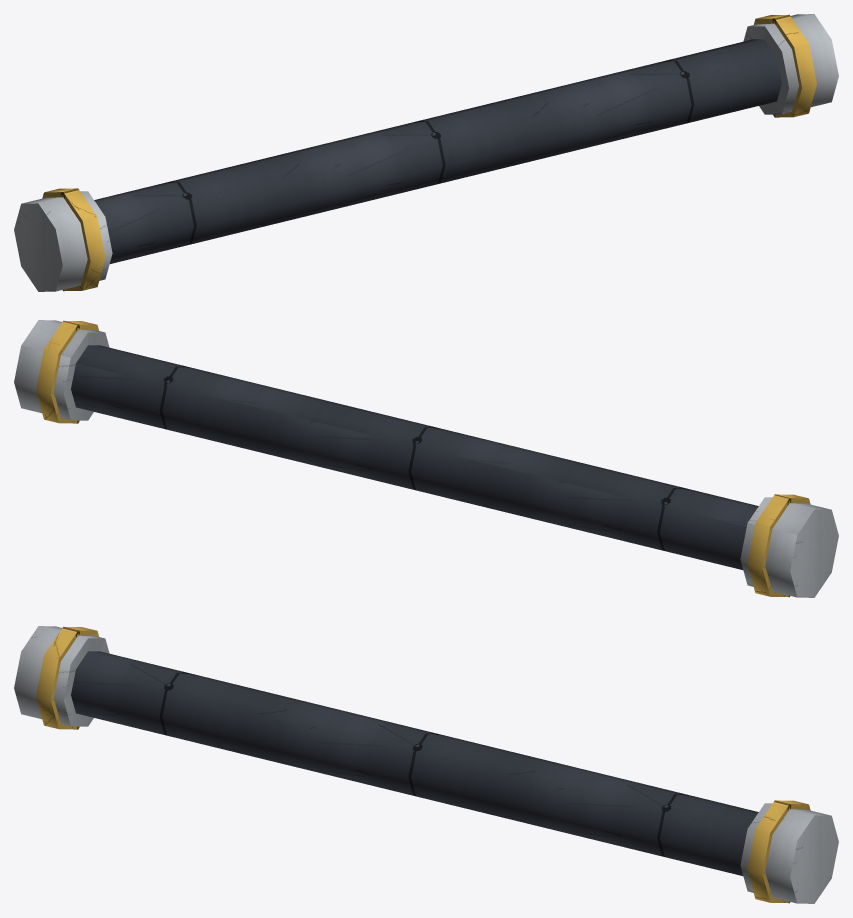
The model's file is hose_straight.glb.
3 renders of one model, top to bottom at view 1: azimuth 30°, elevation 25°; view 2: azimuth 150°, elevation 25°; view 3: azimuth 330°, elevation 25°, orthographic.
Parts seen in each view (by area): view 1: DL016_HoseStraight_rubber_dark, DL016_HoseStraight_titanium, DL016_HoseStraight_amber_accent; view 2: DL016_HoseStraight_rubber_dark, DL016_HoseStraight_titanium, DL016_HoseStraight_amber_accent; view 3: DL016_HoseStraight_rubber_dark, DL016_HoseStraight_titanium, DL016_HoseStraight_amber_accent.
Boxes of the visible parts, x1,y1,x2,y2 form: DL016_HoseStraight_rubber_dark: (94, 39, 781, 263); DL016_HoseStraight_titanium: (14, 14, 838, 291); DL016_HoseStraight_amber_accent: (42, 14, 816, 291); DL016_HoseStraight_rubber_dark: (71, 345, 758, 569); DL016_HoseStraight_titanium: (14, 320, 838, 597); DL016_HoseStraight_amber_accent: (36, 320, 810, 597); DL016_HoseStraight_rubber_dark: (71, 651, 758, 875); DL016_HoseStraight_titanium: (14, 626, 838, 903); DL016_HoseStraight_amber_accent: (36, 626, 810, 903).
Size of the model in its own units: 3.12 by 0.3808 by 0.3808.
3 materials, 3 textured.
